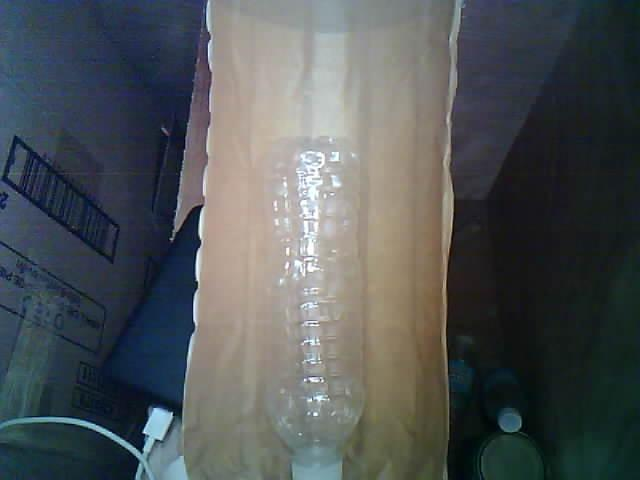small_bottle: (253, 131, 372, 480)
